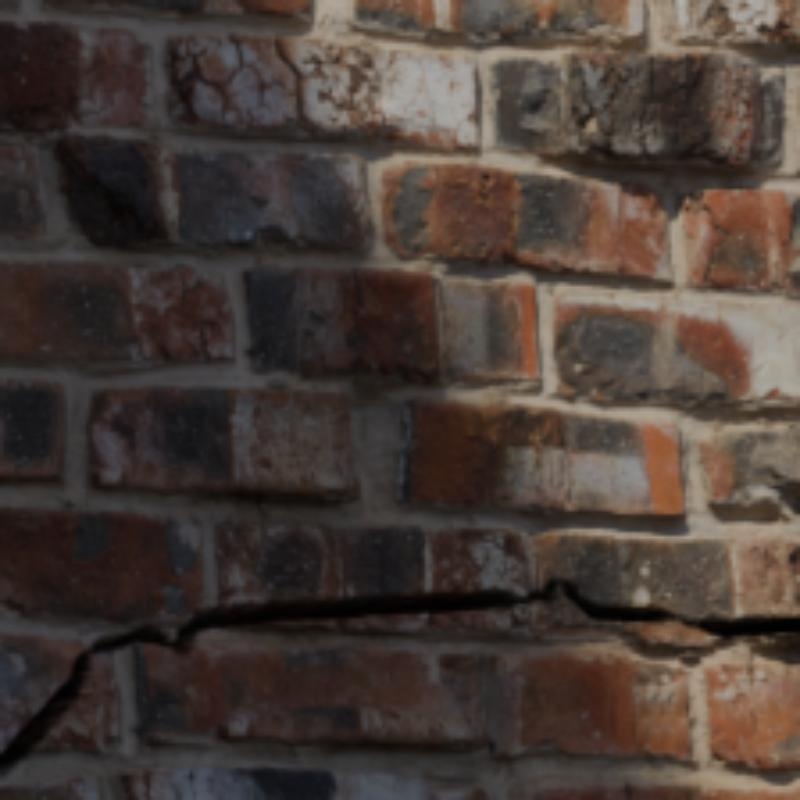pothole: (0, 580, 796, 776), (274, 41, 320, 134)
